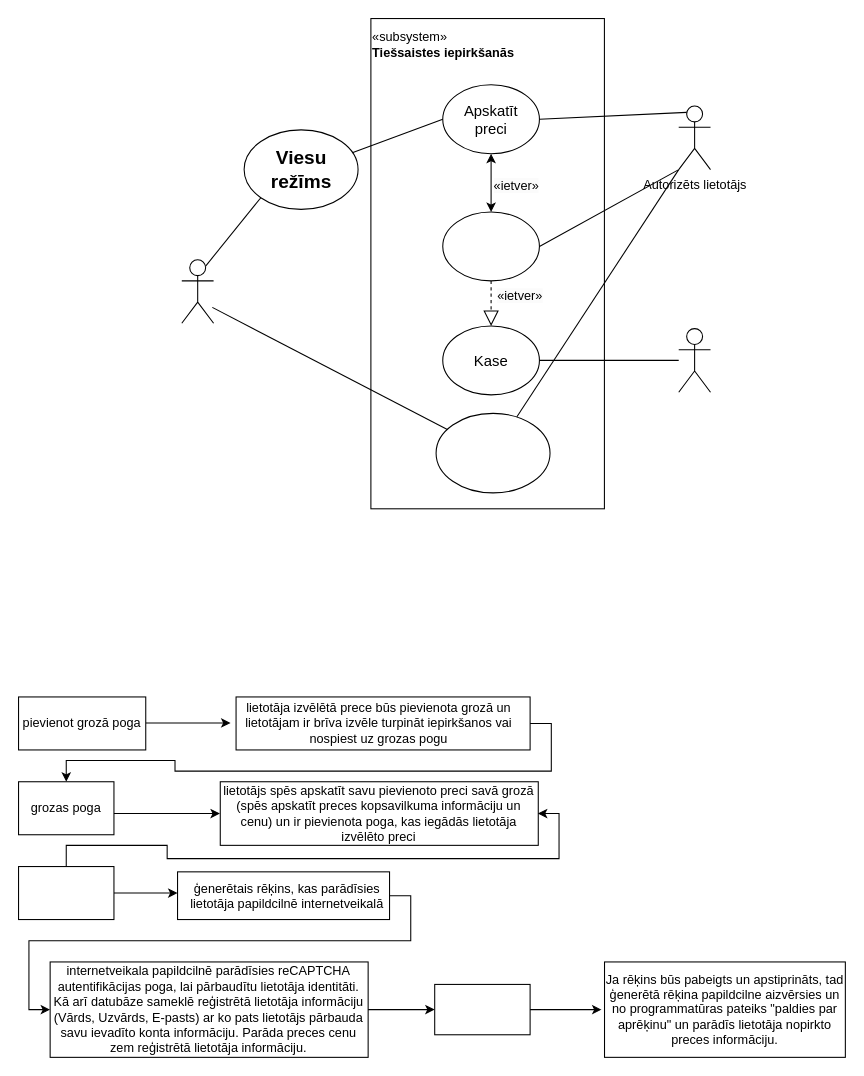
Image size: 864x1076. Some labels were removed from this diagram. The box of each missing label's shape, as (x1, y1, x2, y2) in pixels:
Grāmatvedis: (678, 328, 711, 392)
iegādāties poga: (17, 865, 114, 920)
Lietotājs: (181, 259, 214, 323)
poga pirkt: (434, 983, 530, 1035)
Reģistrācija: (435, 412, 550, 493)
Veikt pirkumu: (442, 211, 539, 281)
